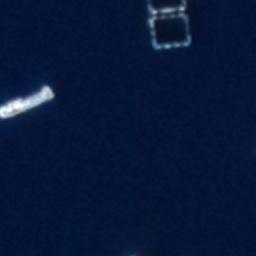square_solid: (144, 10, 192, 53)
